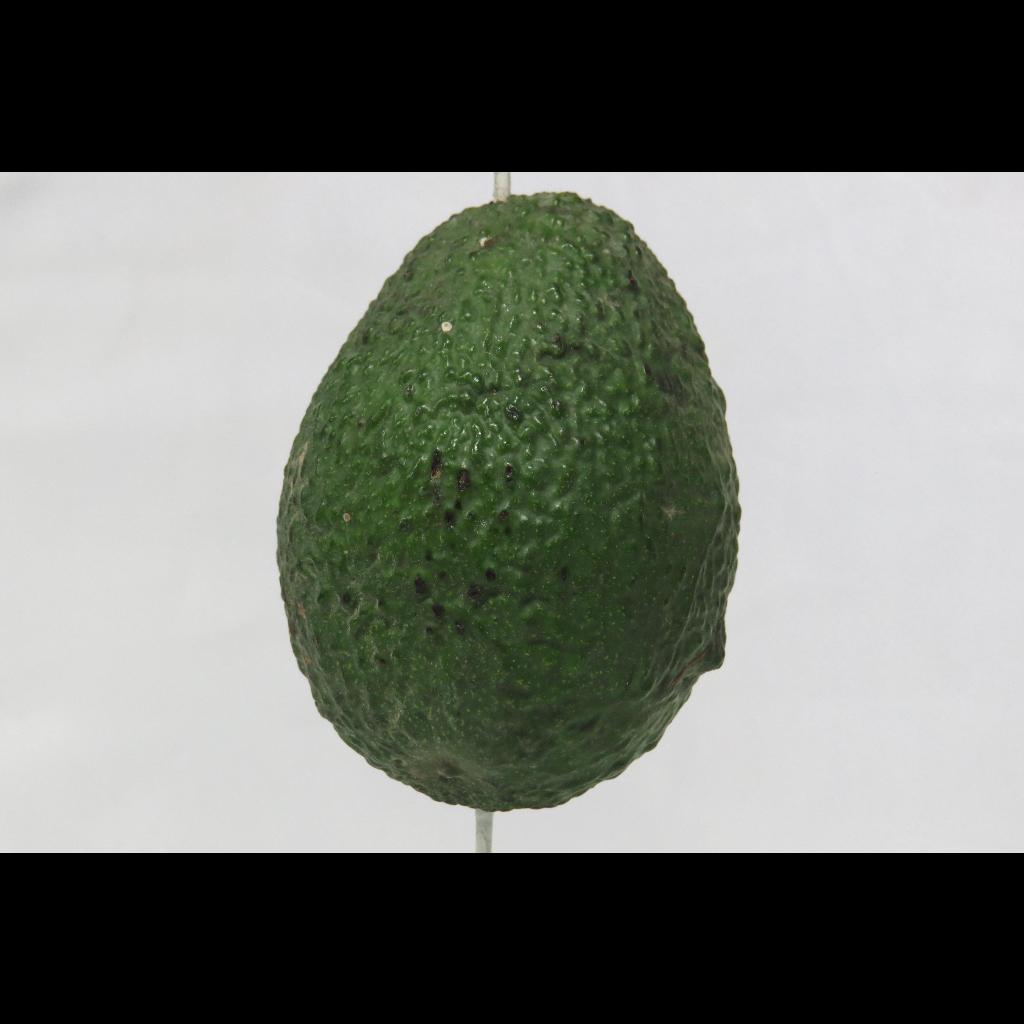fruto_sano: (233, 179, 777, 820)
